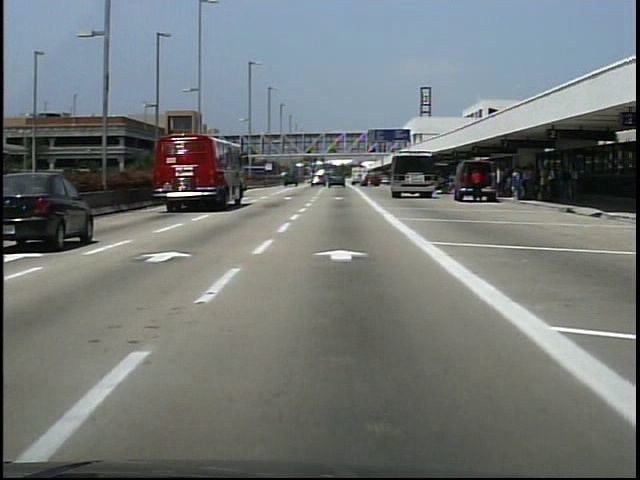person: (470, 165, 486, 205)
